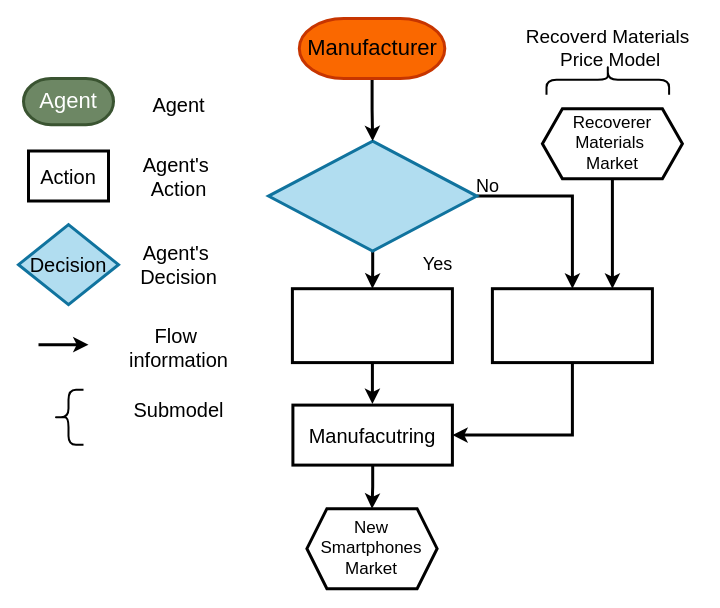
This 720x608 diagram has some shape labels left out. The box of each missing label's shape, as (x1, y1, x2, y2) in pixels:
Purchase recoverer materials: (490, 287, 653, 364)
Purchase virgin materials: (290, 287, 453, 364)
Purchase virgin materials?: (266, 139, 478, 252)
